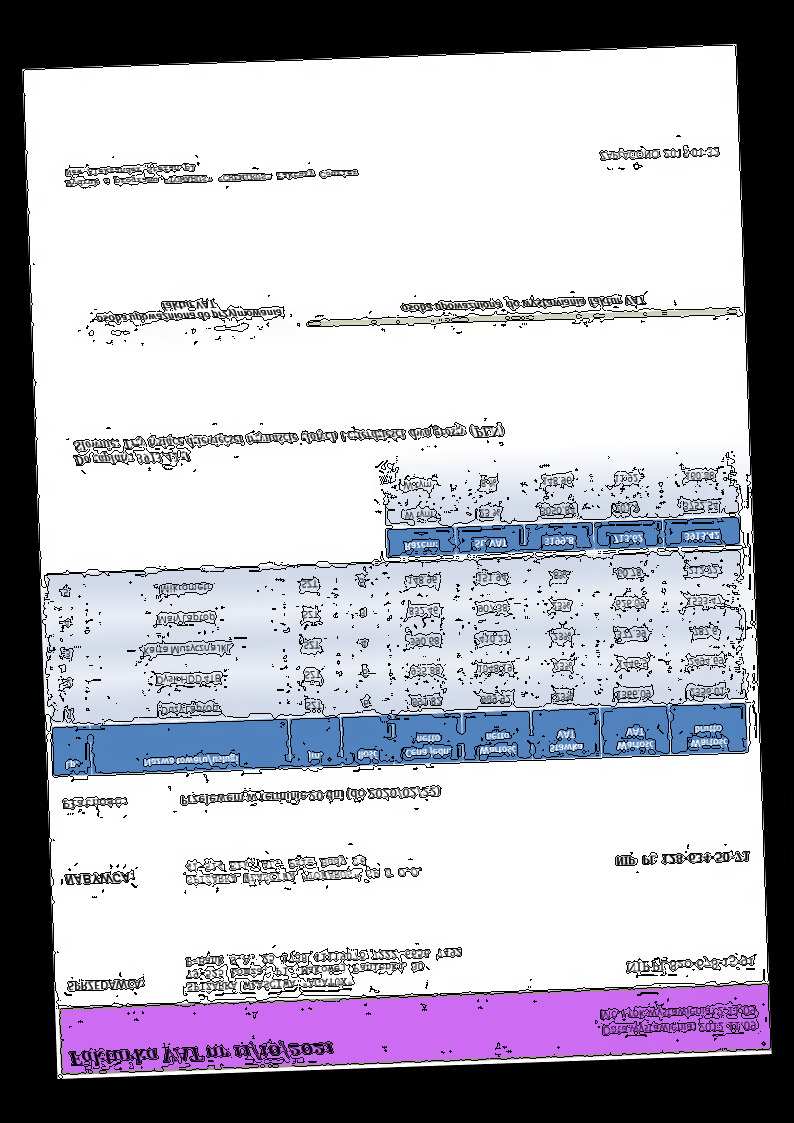Table: (43, 549, 749, 779), (383, 454, 741, 559)
TextBox: (70, 421, 507, 470), (181, 945, 464, 995), (62, 155, 360, 190), (182, 852, 425, 888), (65, 1039, 335, 1070), (399, 291, 649, 317), (178, 783, 442, 807), (93, 296, 283, 328), (596, 1003, 759, 1039), (613, 849, 751, 870), (622, 954, 755, 975), (596, 143, 721, 164), (65, 977, 145, 995), (62, 870, 135, 889), (60, 795, 130, 813)
